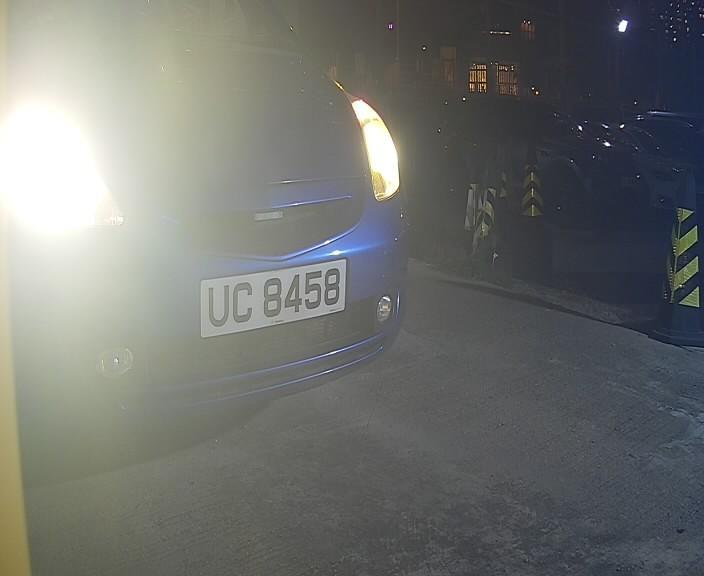privatecar: (10, 13, 428, 463)
